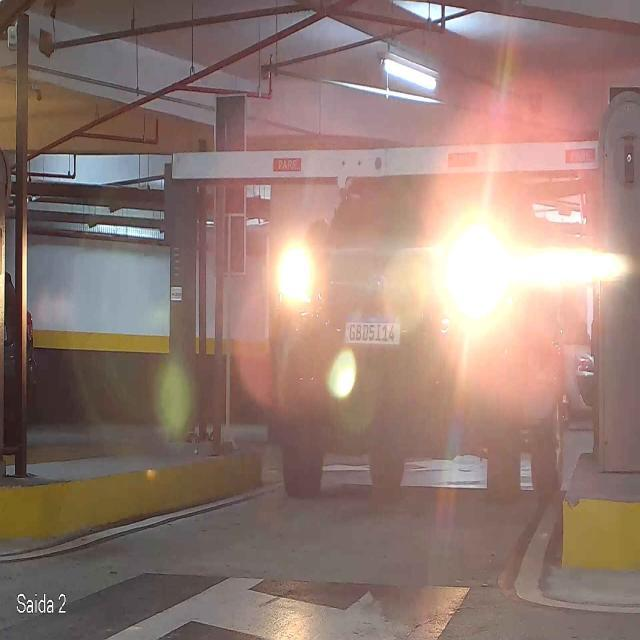mercosul_plate: (342, 315, 402, 346)
